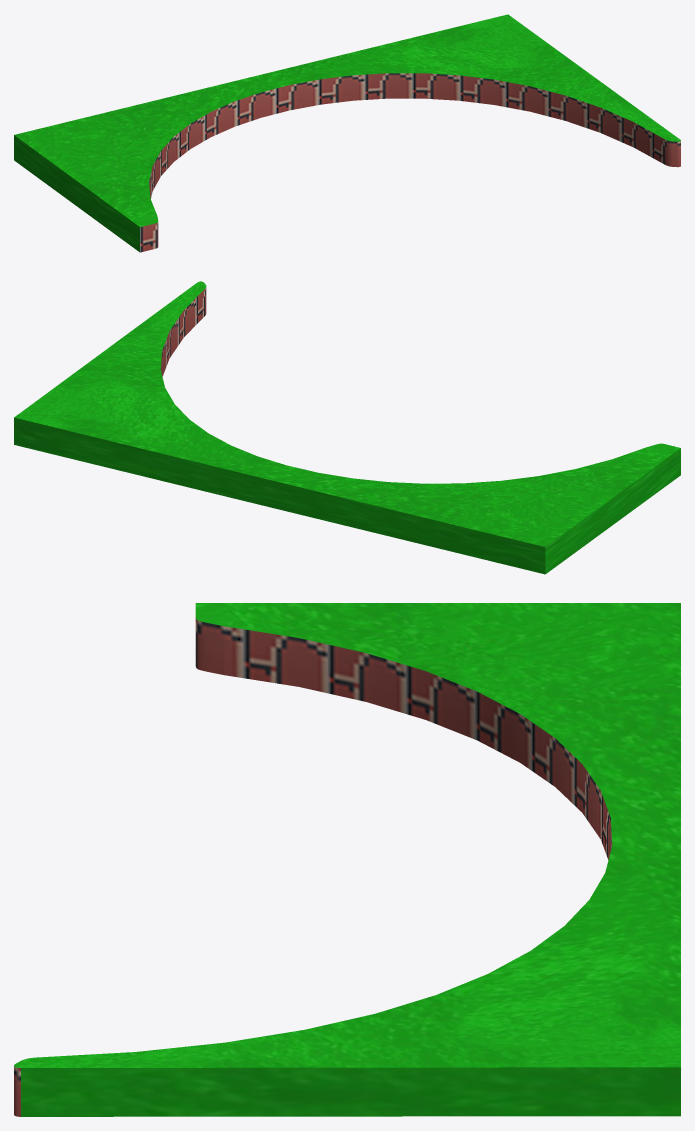
File: Bowl.FBX
3 renders of one model, top to bottom at view 1: azimuth 30°, elevation 25°; view 2: azimuth 150°, elevation 25°; view 3: azimuth 270°, elevation 25°, orthographic. The views are drawn at different scales.
Parts seen in each view (by area): view 1: Line016; view 2: Line016; view 3: Line016.
Part boxes in pixels (bbox=[...]): Line016: bbox=[14, 14, 680, 252]; Line016: bbox=[14, 281, 680, 574]; Line016: bbox=[14, 603, 680, 1116].
Bounding box in the file's own units: 20.08 × 0.9843 × 12.17.
